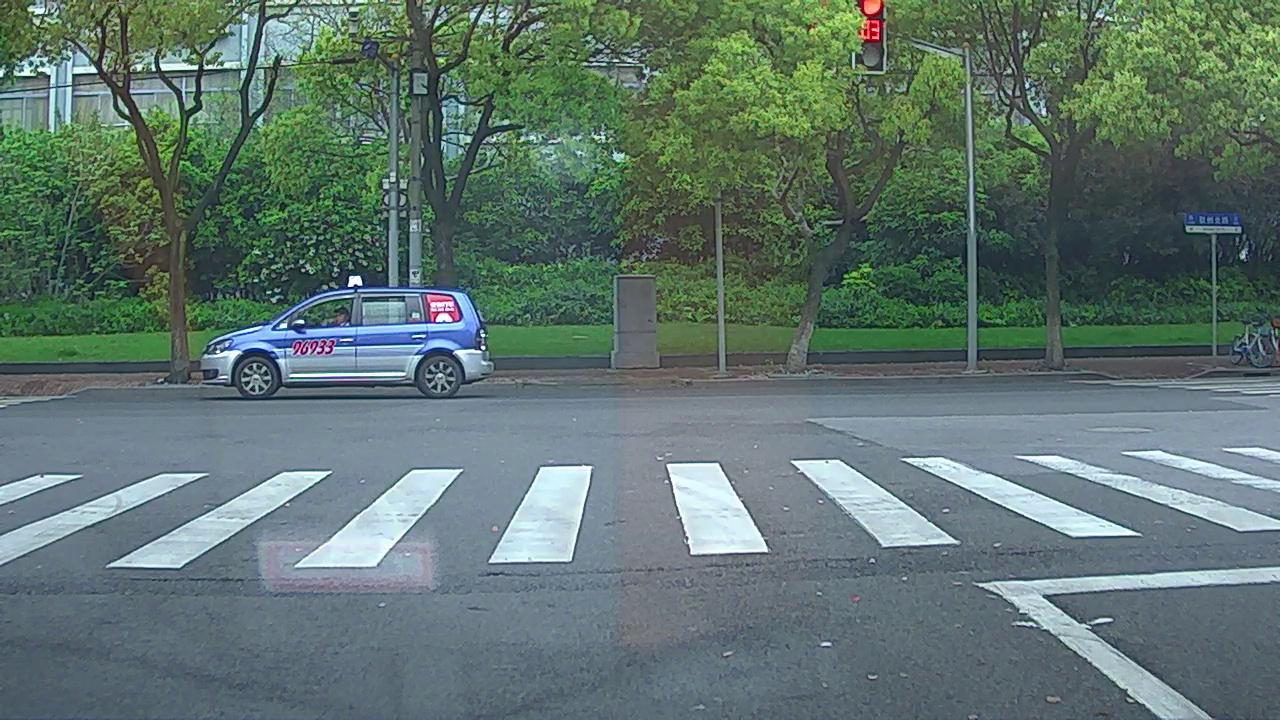traffic_light: (854, 1, 889, 73)
